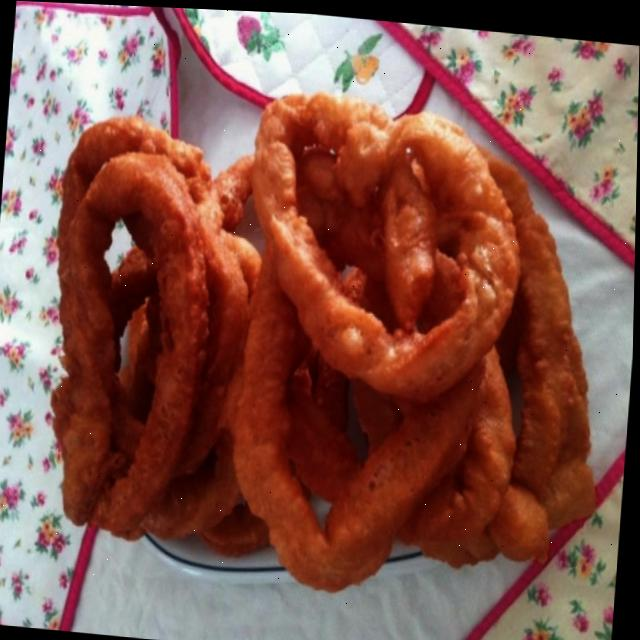炸货点心: (8, 46, 634, 615)
